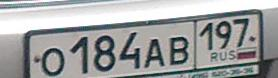license-plateSW: (30, 11, 262, 78)
